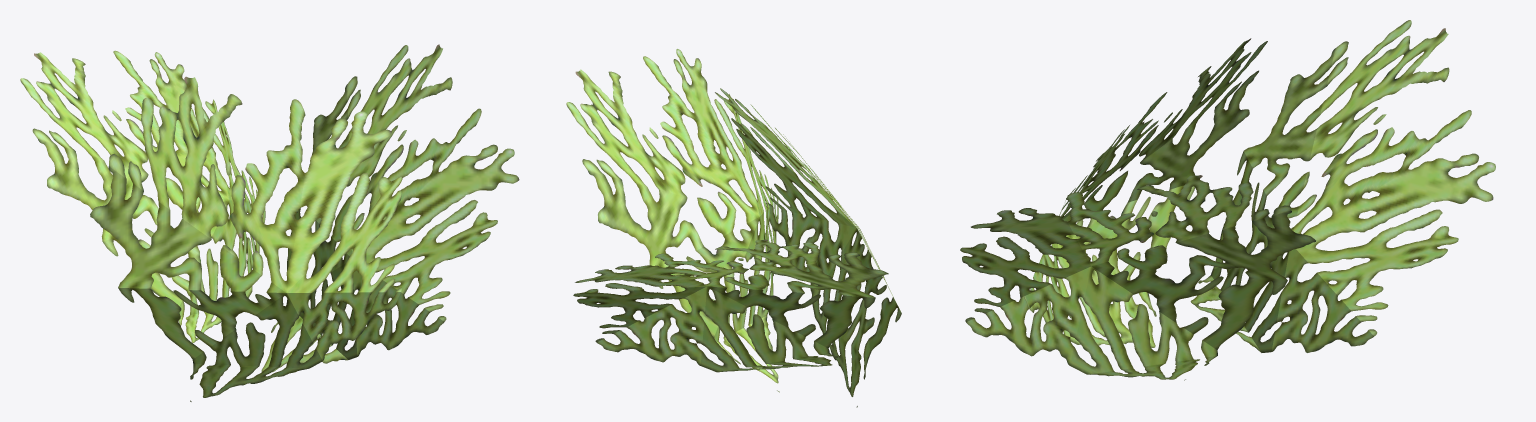
The model's file is cao_G_shanhu.fbx.
3 renders of one model, left to right at view 1: azimuth 30°, elevation 25°; view 2: azimuth 150°, elevation 25°; view 3: azimuth 270°, elevation 25°, orthographic. The views are drawn at different scales.
Visible parts, largest first — view 1: cao_Y_shanhu; view 2: cao_Y_shanhu; view 3: cao_Y_shanhu.
Part boxes in pixels (x1,y1,x2,y2): cao_Y_shanhu: [20, 44, 519, 401]; cao_Y_shanhu: [566, 49, 901, 407]; cao_Y_shanhu: [960, 20, 1495, 380].
Bounding box in the file's own units: 434 × 345 × 512.
Materials: 1 (1 with a texture image).
